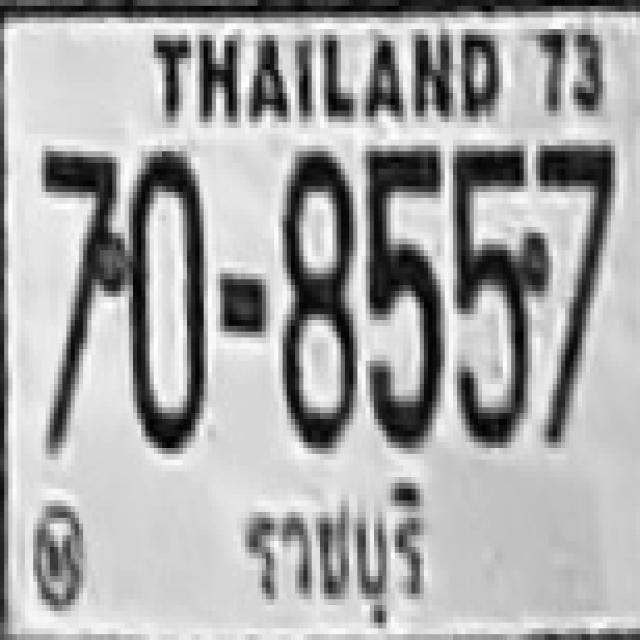0: (124, 145, 203, 448)
5: (449, 140, 532, 446), (366, 146, 440, 442)
7: (38, 146, 116, 437), (536, 140, 611, 436)
8: (280, 152, 354, 449)
Ratchaburi: (230, 470, 434, 627)
